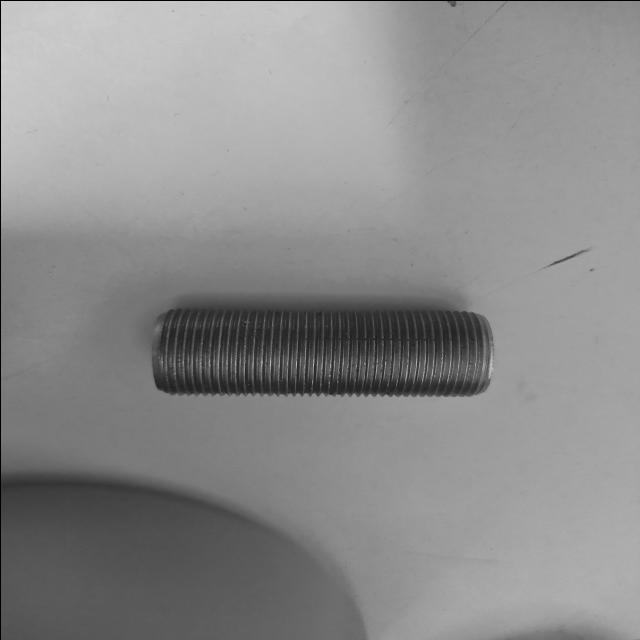Normal: (153, 306, 493, 398)
